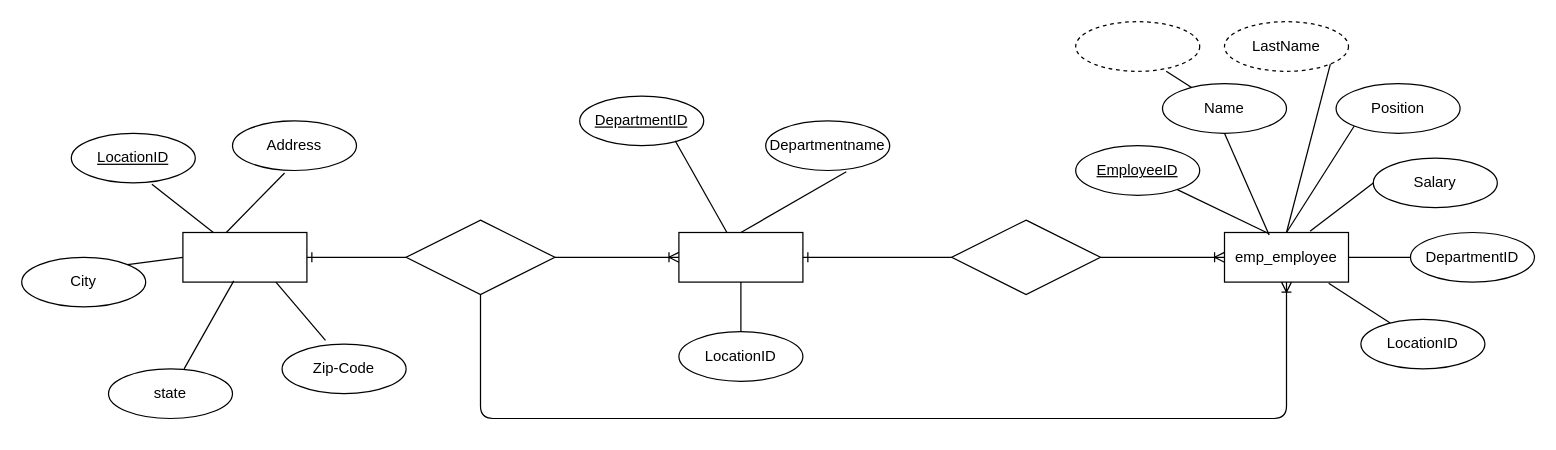
This 1556x450 diagram has some shape labels left out. Each missing label, with the centre of its shape:
"emp_department" goes at point 740,256.
"emp_location" goes at point 244,256.
"FirstName" goes at point 1137,45.
"located at" goes at point 480,256.
"works for" goes at point 1025,256.
